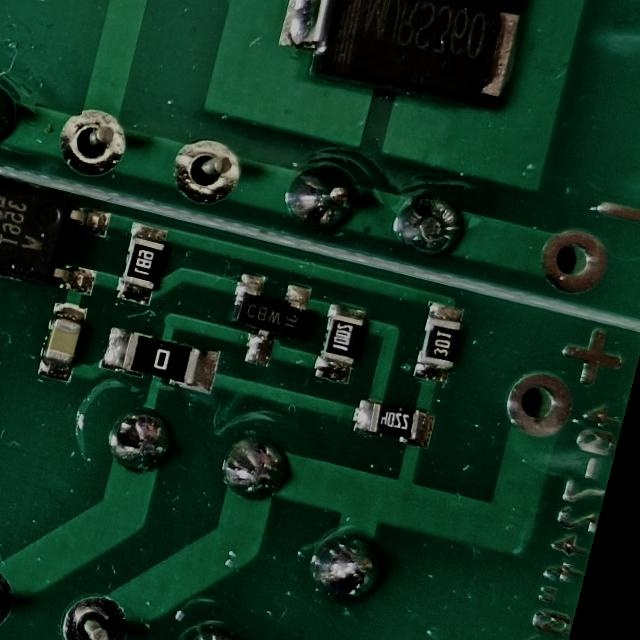chip-capacitor: (31, 294, 93, 387)
chip-resistor: (95, 319, 224, 398), (306, 296, 370, 392), (109, 216, 172, 312), (407, 296, 469, 390), (347, 393, 439, 455)
diode: (264, 0, 540, 128)
ic: (0, 159, 120, 302)
transistor: (212, 264, 317, 379)
